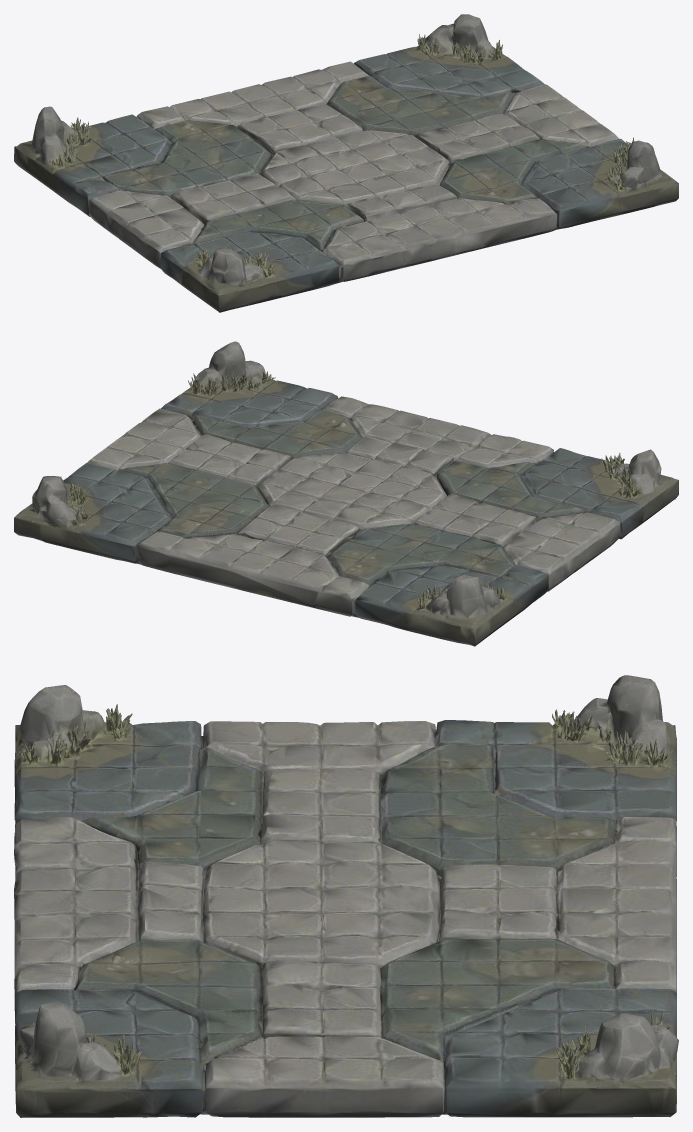
The model's file is stage-board.glb.
3 views of the same model, one above another, from view 1: azimuth 30°, elevation 25°; view 2: azimuth 150°, elevation 25°; view 3: azimuth 270°, elevation 25° (orthographic). The views are drawn at different scales.
Size of the model in its own units: 1.9 by 0.2248 by 1.46.
Materials: 1 (1 with a texture image).
